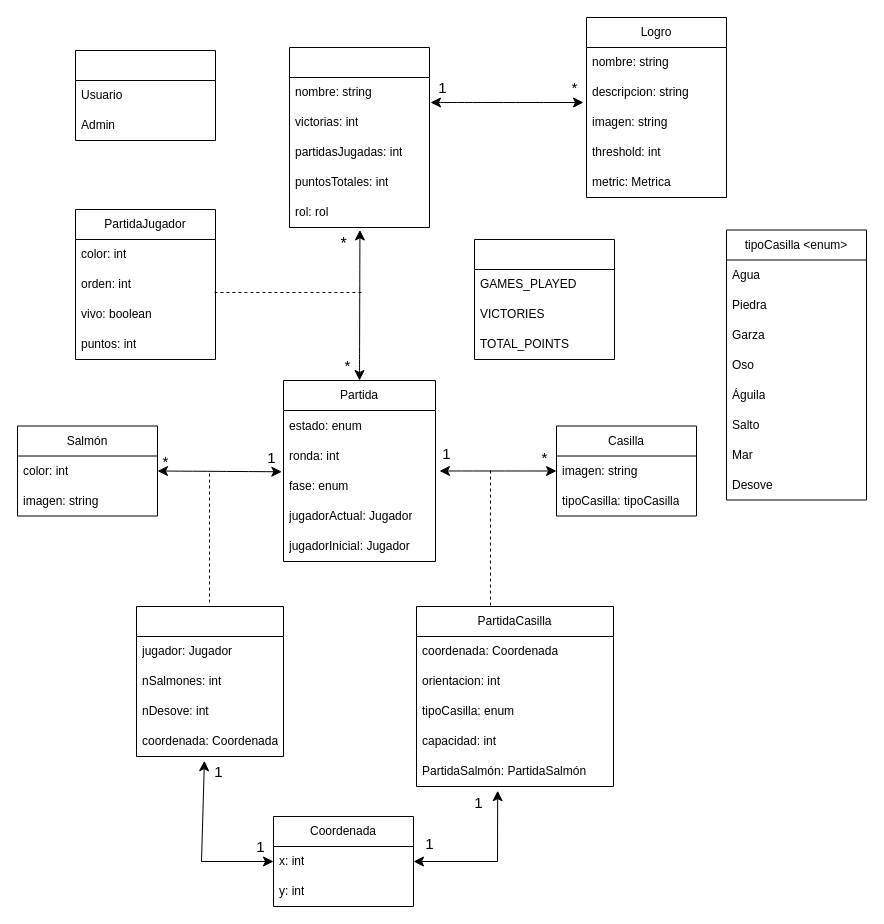
The diagram is 884 pixels wide and 924 high, and some of its shapes have lost their labels. Each missing label, with the box of its shape:
Jugador: (288, 46, 430, 228)
Metrica <enum>: (474, 238, 614, 360)
PartidaSalmón: (136, 606, 284, 756)
rol <enum>: (74, 50, 216, 140)
